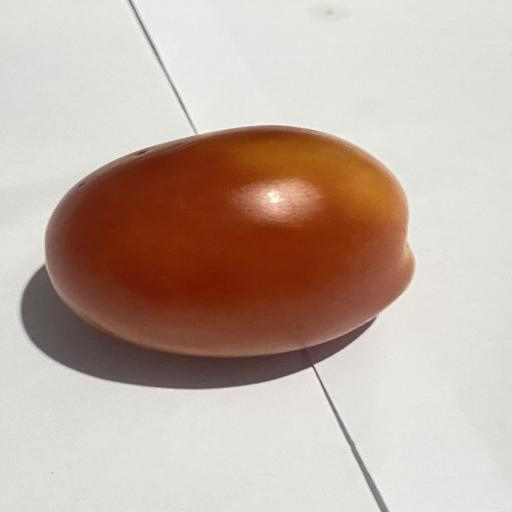ripe: (45, 125, 414, 357)
